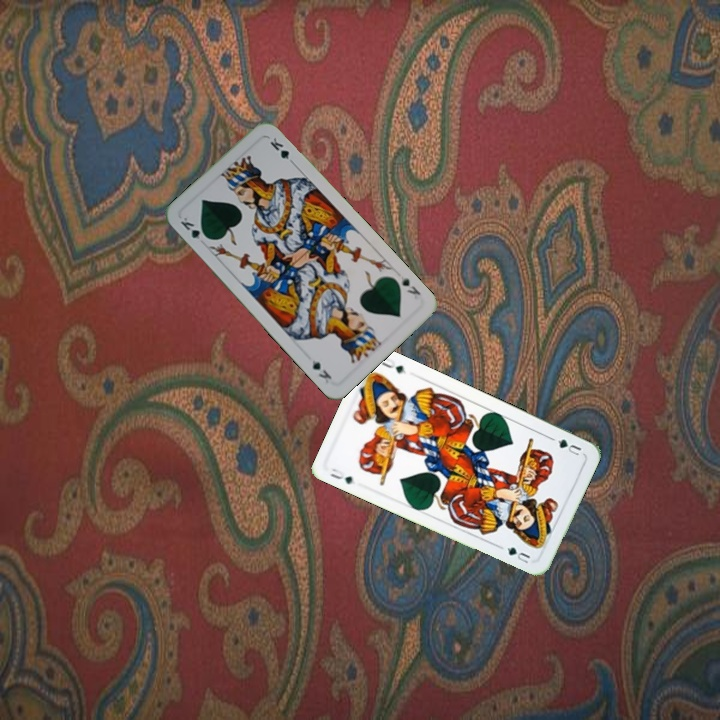GK: (176, 213, 211, 244), (397, 272, 424, 298)
GU: (553, 435, 584, 459), (325, 464, 355, 487)
